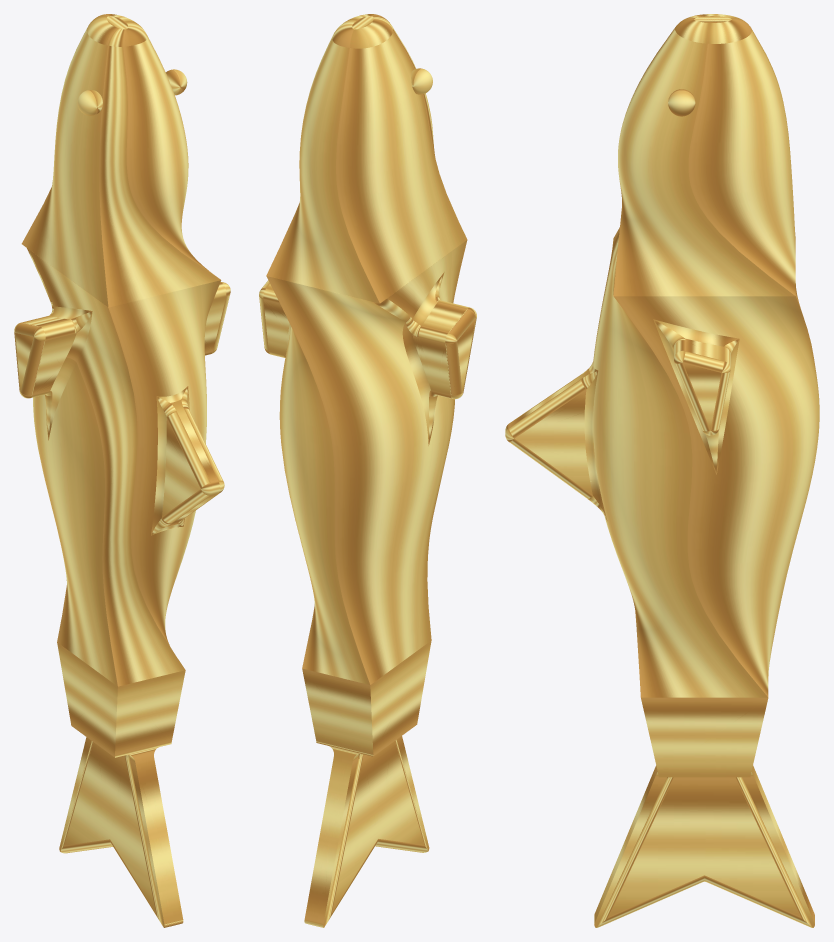
File: MaxMoore.gltf
3 renders of one model, left to right at view 1: azimuth 30°, elevation 25°; view 2: azimuth 150°, elevation 25°; view 3: azimuth 270°, elevation 25°, orthographic. The views are drawn at different scales.
Parts seen in each view (by area): view 1: mesh58_mesh_28, mesh58_mesh_53, mesh58_mesh_26, mesh44_mesh_2, mesh44_mesh_5, mesh44_mesh_11, mesh0_mesh_29, mesh0_mesh_43, mesh0_mesh_40, mesh0_mesh_10, mesh58_mesh_61, mesh58_mesh_38 (+14 smaller); view 2: mesh58_mesh_26, mesh44_mesh_2, mesh58_mesh_22, mesh44_mesh_4, mesh0_mesh_29, mesh0_mesh_42, mesh0_mesh_40, mesh0_mesh_22, mesh58_mesh_28, mesh58_mesh_35, mesh58_mesh_5, mesh58_mesh_31 (+8 smaller); view 3: mesh58_mesh_22, mesh58_mesh_53, mesh44_mesh_11, mesh44_mesh_4, mesh0_mesh_13, mesh0_mesh_39, mesh58_mesh_75, mesh0_mesh_18, mesh0_mesh_9, mesh58_mesh_21, mesh58_mesh_70, mesh0_mesh_15 (+11 smaller).
Boxes of the visible parts, <box> form: mesh58_mesh_28: <box>28,249,185,686</box>; mesh58_mesh_53: <box>108,280,220,645</box>; mesh58_mesh_26: <box>33,363,117,686</box>; mesh44_mesh_2: <box>21,28,108,306</box>; mesh44_mesh_5: <box>99,45,220,307</box>; mesh44_mesh_11: <box>123,35,217,277</box>; mesh0_mesh_29: <box>64,742,155,911</box>; mesh0_mesh_43: <box>115,670,185,755</box>; mesh0_mesh_40: <box>57,642,117,757</box>; mesh0_mesh_10: <box>132,750,183,923</box>; mesh58_mesh_61: <box>162,419,200,516</box>; mesh58_mesh_38: <box>32,333,76,395</box>; mesh58_mesh_26: <box>266,276,454,684</box>; mesh44_mesh_2: <box>335,31,467,303</box>; mesh58_mesh_22: <box>279,327,369,684</box>; mesh44_mesh_4: <box>266,37,379,303</box>; mesh0_mesh_29: <box>332,741,424,911</box>; mesh0_mesh_42: <box>302,668,373,754</box>; mesh0_mesh_40: <box>370,640,431,756</box>; mesh0_mesh_22: <box>304,749,355,923</box>; mesh58_mesh_28: <box>387,240,467,525</box>; mesh58_mesh_35: <box>412,335,450,394</box>; mesh58_mesh_5: <box>263,299,289,354</box>; mesh58_mesh_31: <box>402,322,430,443</box>; mesh58_mesh_22: <box>614,296,819,696</box>; mesh58_mesh_53: <box>593,241,767,697</box>; mesh44_mesh_11: <box>613,28,795,296</box>; mesh44_mesh_4: <box>688,30,795,295</box>; mesh0_mesh_13: <box>608,777,800,916</box>; mesh0_mesh_39: <box>641,697,768,777</box>; mesh58_mesh_75: <box>514,390,592,494</box>; mesh0_mesh_18: <box>742,776,814,927</box>; mesh0_mesh_9: <box>594,776,666,927</box>; mesh58_mesh_21: <box>683,363,721,429</box>; mesh58_mesh_70: <box>584,371,606,518</box>; mesh0_mesh_15: <box>735,777,811,926</box>.
Size of the model in its own units: 0.052 by 0.219 by 0.069.
1 material, 1 textured.
